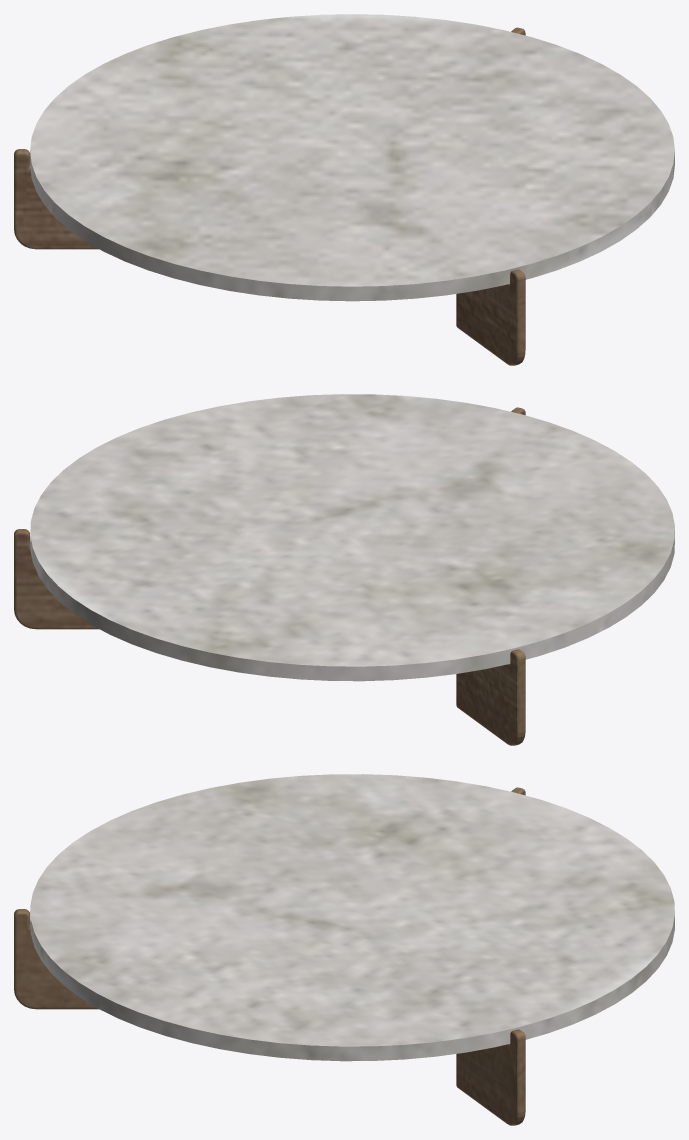
Rendered from Coffee table.fbx.
The picture shows the model from 3 angles, top to bottom: view 1: azimuth 30°, elevation 25°; view 2: azimuth 150°, elevation 25°; view 3: azimuth 270°, elevation 25°; orthographic projection.
Parts seen in each view (by area): view 1: Coffee table; view 2: Coffee table; view 3: Coffee table.
Part boxes in pixels (<box>): Coffee table: <box>14,14,674,365</box>; Coffee table: <box>14,394,674,745</box>; Coffee table: <box>14,774,674,1125</box>.
Size of the model in its own units: 1.2 by 0.2 by 1.23.
Materials: 2 (2 with a texture image).
